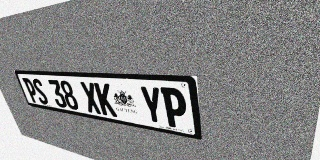3: (48, 79, 68, 108)
8: (59, 80, 80, 110)
K: (94, 83, 118, 117)
P: (160, 87, 189, 130), (22, 78, 41, 104)
S: (31, 78, 50, 105)
X: (79, 82, 102, 114)
Y: (139, 86, 165, 126)
